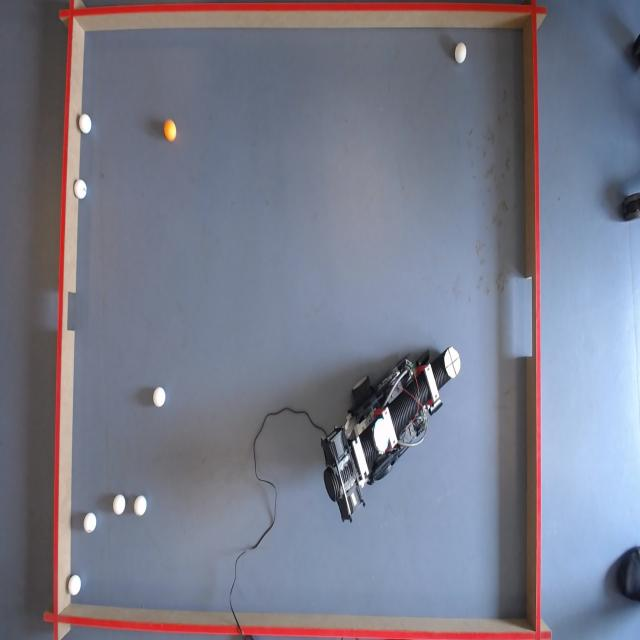orange: (164, 119, 178, 140)
robot: (311, 345, 460, 527)
robot-front: (444, 347, 461, 378)
robot-rear: (375, 416, 393, 451)
white: (73, 178, 88, 201), (152, 386, 166, 408), (79, 112, 93, 134), (69, 574, 82, 596), (113, 494, 126, 516), (455, 44, 468, 65), (85, 514, 98, 534), (136, 496, 148, 516)
